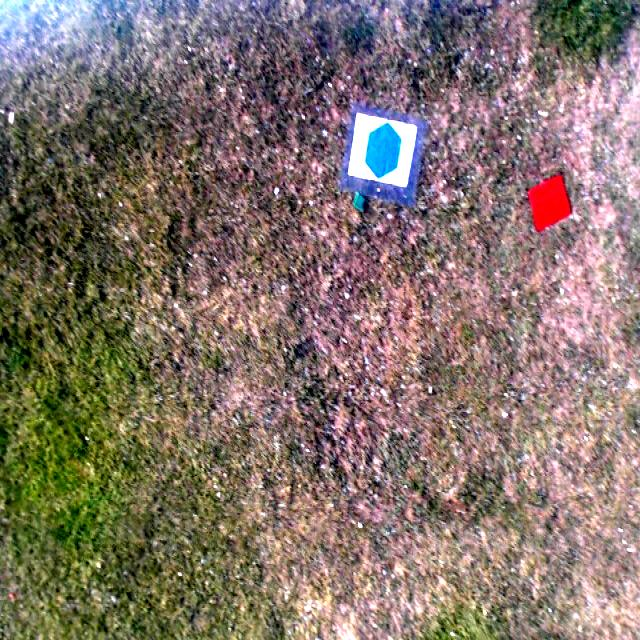blue_hexagon: (366, 121, 402, 181)
red_square: (528, 172, 574, 232)
